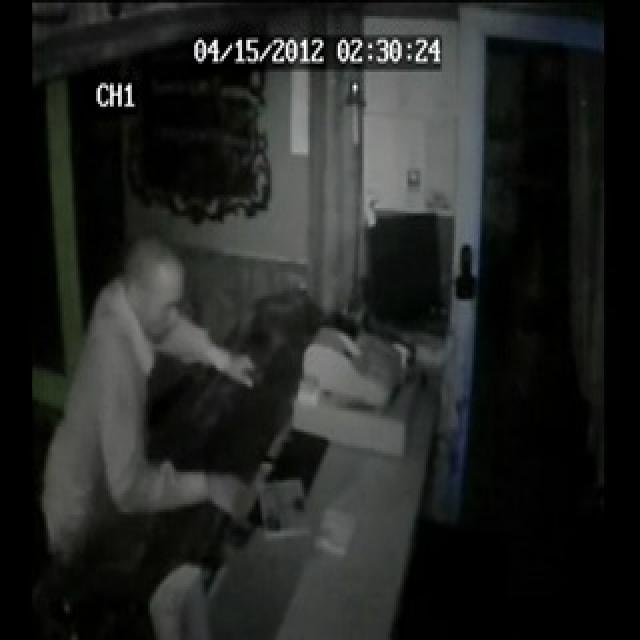thief: (99, 232, 198, 392)
